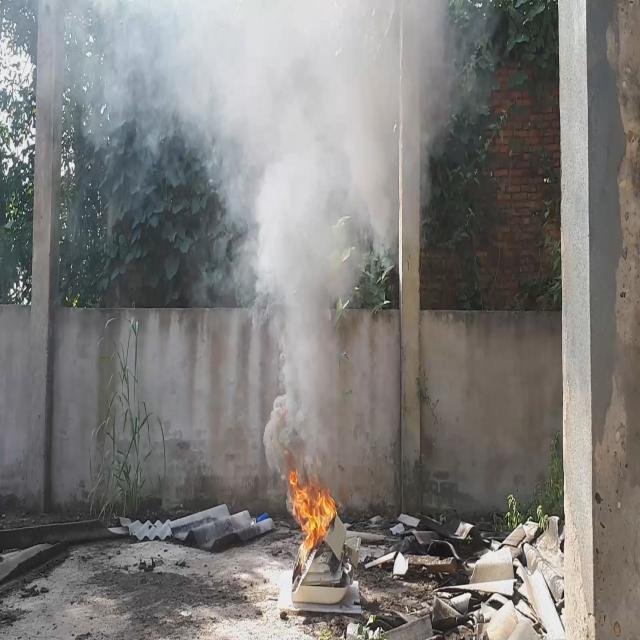Fire: (288, 471, 337, 568)
Smoke: (41, 0, 476, 488)
